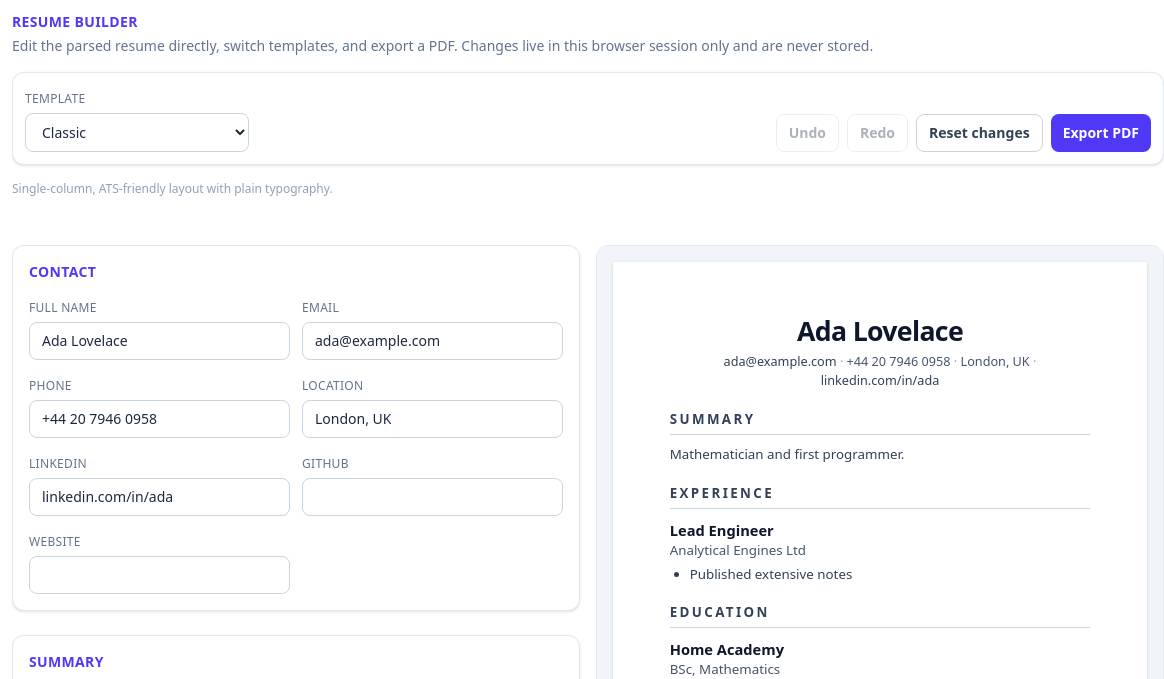
Test: ResumeBuilder › switches templates without changing content
This screenshot has width=1164, height=679.
Select "Modern" in the dropdown labelled "Template" at point(137, 132), box [25,113,249,152]
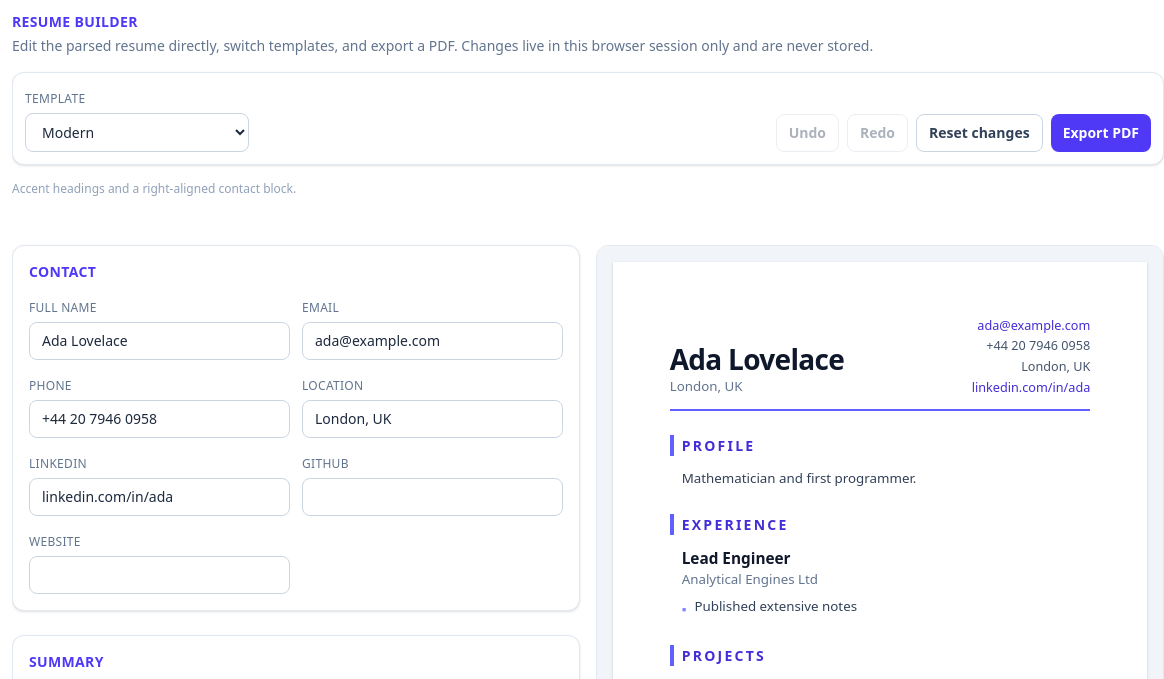
Check: the heading "Ada Lovelace" is shown, box [670,342,844,377]
Check: the heading "Profile" is shown, box [670,435,1090,456]
